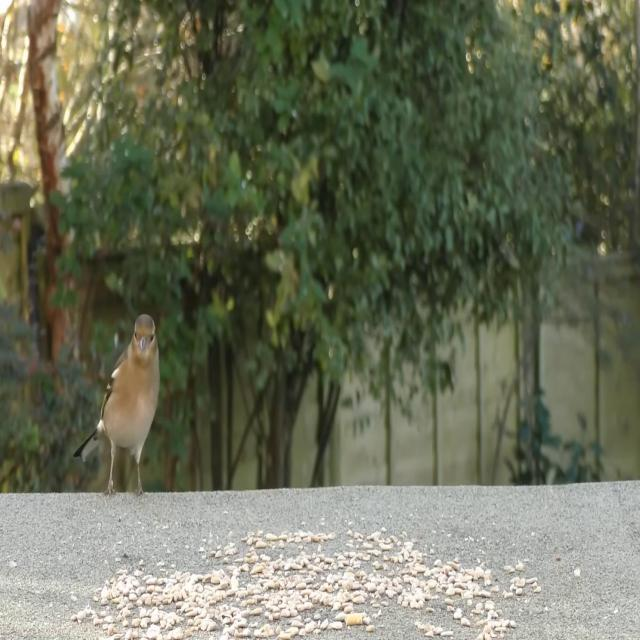beak: (138, 334, 148, 352)
bird: (74, 308, 164, 502)
